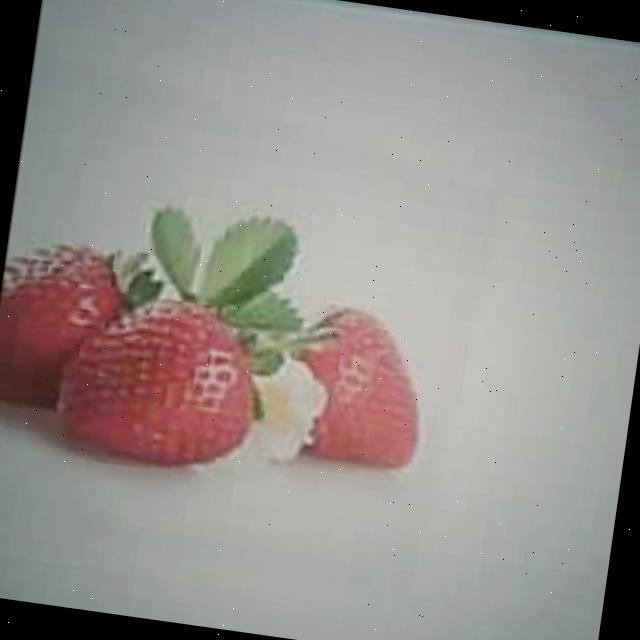strawberry: (53, 282, 270, 471), (281, 296, 434, 471)
